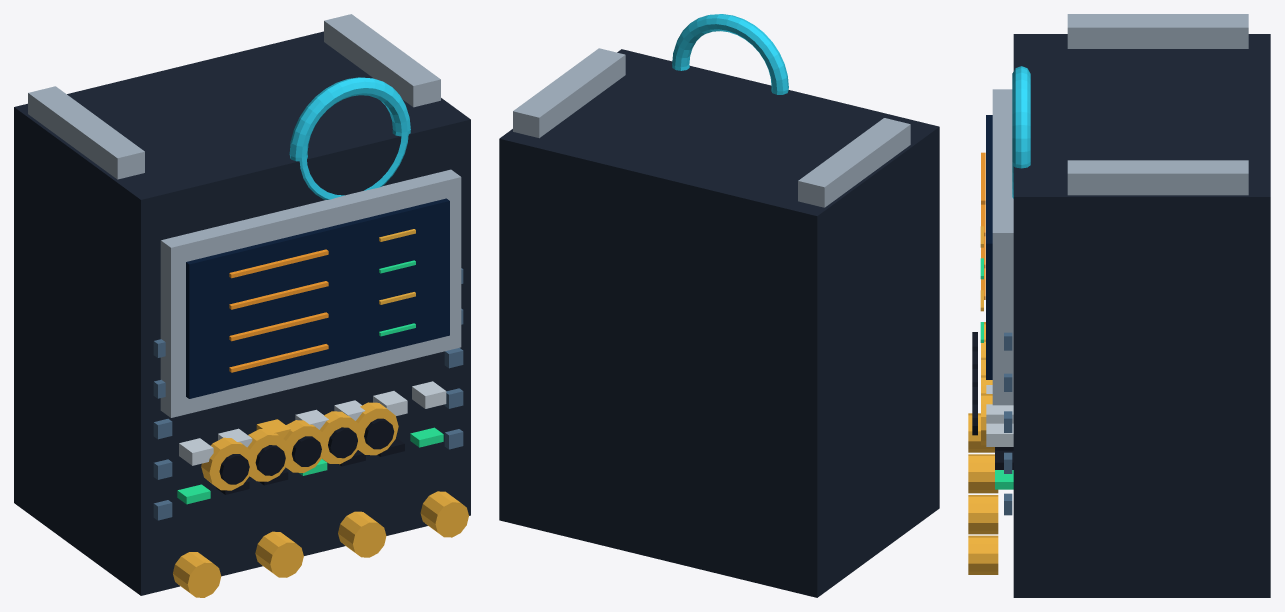
Rendered from 53_L85_FuelReserveAndAbortPredictor.fbx.
3 views of the same model, side by side, from view 1: azimuth 30°, elevation 25°; view 2: azimuth 150°, elevation 25°; view 3: azimuth 270°, elevation 25° (orthographic). The views are drawn at different scales.
Visible parts, largest first — view 1: L85_FuelReserveAndAbortPredictor, L85_FuelReserveAndAbortPredictor_Part_0010, L85_FuelReserveAndAbortPredictor_Part_0012, L85_FuelReserveAndAbortPredictor_Part_0018, L85_FuelReserveAndAbortPredictor_Part_0016, L85_FuelReserveAndAbortPredictor_Part_0014, L85_FuelReserveAndAbortPredictor_Part_0019, L85_FuelReserveAndAbortPredictor_Part_0017, L85_FuelReserveAndAbortPredictor_Part_0011, L85_FuelReserveAndAbortPredictor_Part_0013, L85_FuelReserveAndAbortPredictor_Part_0015; view 2: L85_FuelReserveAndAbortPredictor; view 3: L85_FuelReserveAndAbortPredictor.
Boxes of the visible parts, x1=… form: L85_FuelReserveAndAbortPredictor: x1=14, y1=14, x2=470, y2=597; L85_FuelReserveAndAbortPredictor_Part_0010: x1=201, y1=437, x2=253, y2=490; L85_FuelReserveAndAbortPredictor_Part_0012: x1=247, y1=429, x2=289, y2=481; L85_FuelReserveAndAbortPredictor_Part_0018: x1=356, y1=402, x2=398, y2=455; L85_FuelReserveAndAbortPredictor_Part_0016: x1=319, y1=411, x2=362, y2=464; L85_FuelReserveAndAbortPredictor_Part_0014: x1=283, y1=420, x2=325, y2=472; L85_FuelReserveAndAbortPredictor_Part_0019: x1=364, y1=418, x2=394, y2=449; L85_FuelReserveAndAbortPredictor_Part_0017: x1=328, y1=427, x2=357, y2=458; L85_FuelReserveAndAbortPredictor_Part_0011: x1=219, y1=454, x2=249, y2=484; L85_FuelReserveAndAbortPredictor_Part_0013: x1=255, y1=445, x2=285, y2=475; L85_FuelReserveAndAbortPredictor_Part_0015: x1=292, y1=436, x2=321, y2=466; L85_FuelReserveAndAbortPredictor: x1=499, y1=14, x2=939, y2=597; L85_FuelReserveAndAbortPredictor: x1=968, y1=14, x2=1270, y2=597.
Size of the model in its own units: 95.88 by 128 by 75.2.
